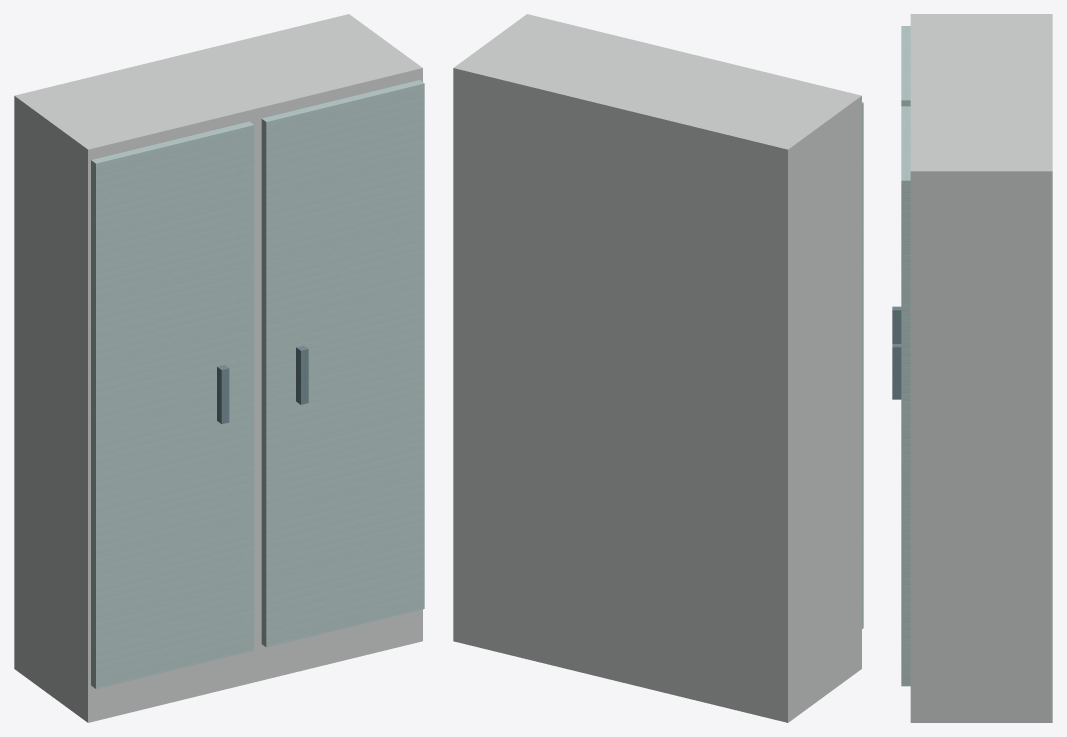
The model's file is cabinet.glb.
3 views of the same model, side by side, from view 1: azimuth 30°, elevation 25°; view 2: azimuth 150°, elevation 25°; view 3: azimuth 270°, elevation 25° (orthographic). The views are drawn at different scales.
Visible parts, largest first — view 1: cabinet; view 2: cabinet; view 3: cabinet.
Part boxes in pixels (x1=…): cabinet: x1=14, y1=14, x2=424, y2=722; cabinet: x1=453, y1=14, x2=863, y2=722; cabinet: x1=892, y1=14, x2=1052, y2=722.
Bounding box in the file's own units: 1.1 × 1.8 × 0.475.
3 materials, 2 textured.
